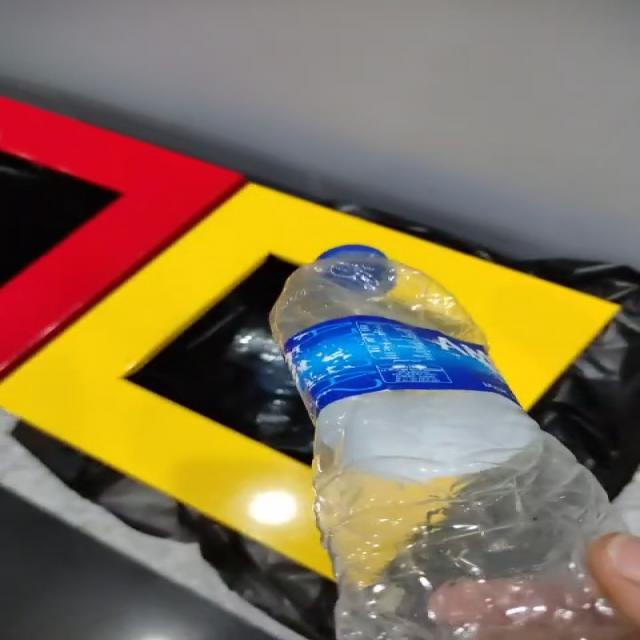plastic: (269, 245, 632, 640)
